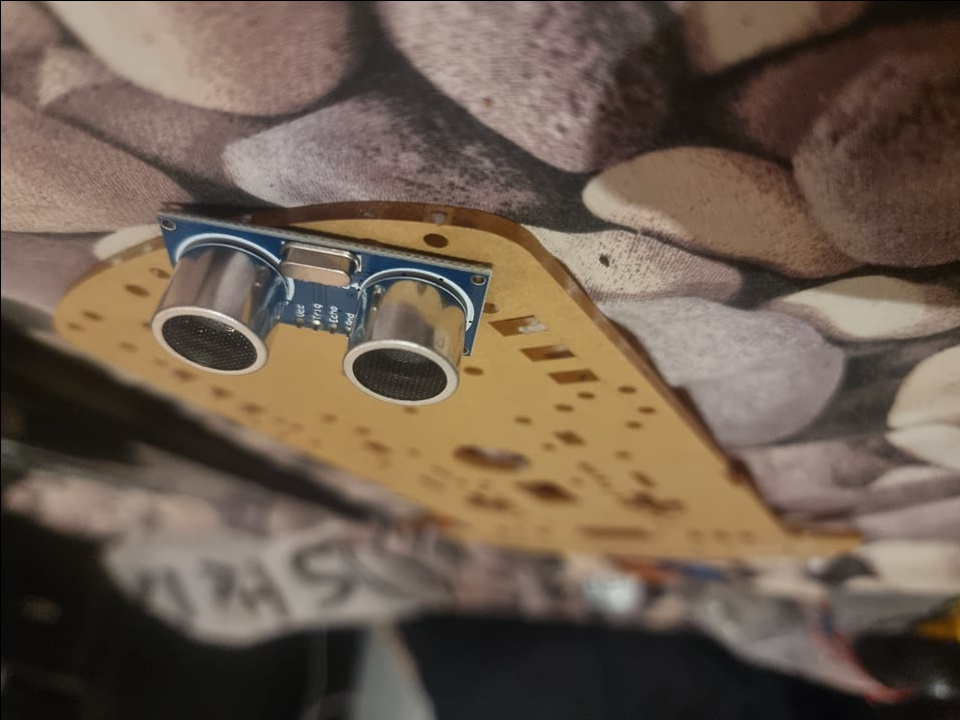SENSOR: (149, 208, 495, 404)
